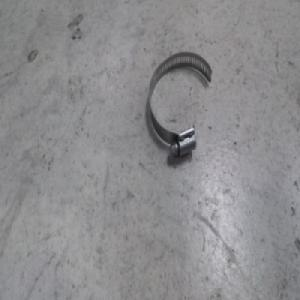AdjustableClamp: (144, 47, 213, 155)
